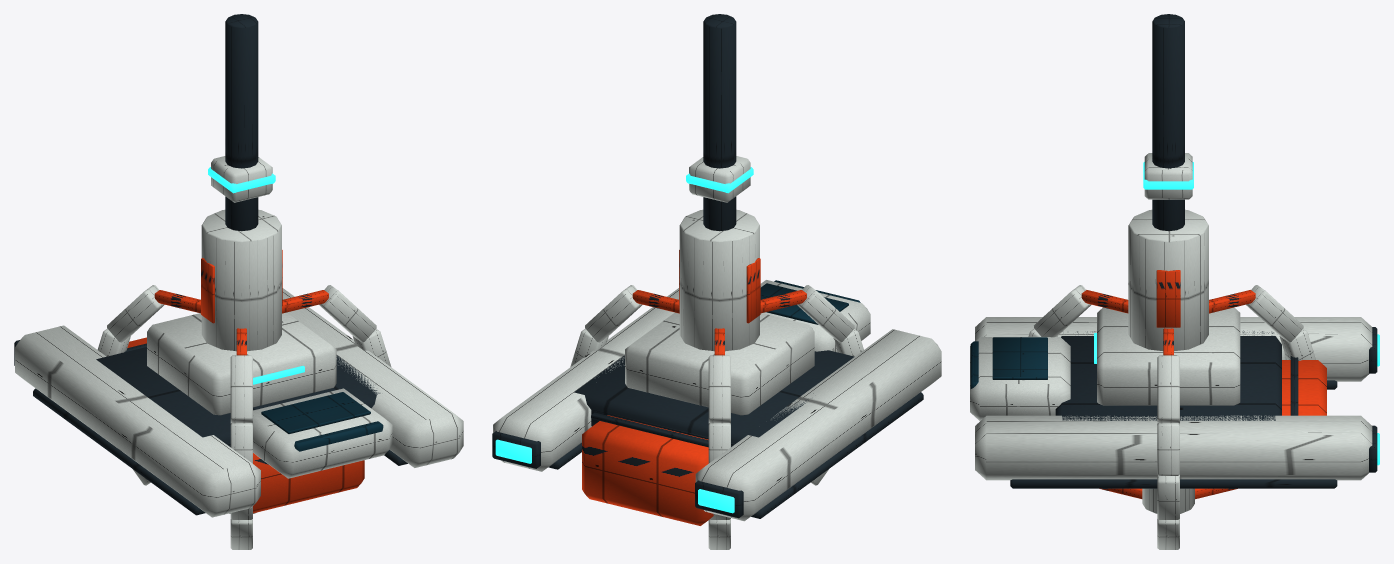
Rendered from port-life.glb.
3 views of the same model, side by side, from view 1: azimuth 30°, elevation 25°; view 2: azimuth 150°, elevation 25°; view 3: azimuth 270°, elevation 25° (orthographic).
Visible parts, largest first — view 1: cargo-shuttle / Solstice service fleet · shared atlas, turbine-tower / Solstice service fleet · shared atlas, turbine-rotor / Solstice service fleet · shared atlas, navigation-beacon / Solstice service fleet · shared atlas, navigation-beacon / Solstice cyan navigation; view 2: cargo-shuttle / Solstice service fleet · shared atlas, turbine-tower / Solstice service fleet · shared atlas, turbine-rotor / Solstice service fleet · shared atlas, navigation-beacon / Solstice service fleet · shared atlas, cargo-shuttle / Solstice cyan navigation, navigation-beacon / Solstice cyan navigation; view 3: cargo-shuttle / Solstice service fleet · shared atlas, turbine-tower / Solstice service fleet · shared atlas, turbine-rotor / Solstice service fleet · shared atlas, navigation-beacon / Solstice service fleet · shared atlas, navigation-beacon / Solstice cyan navigation.
Part boxes in pixels (left/top/right/bottom): cargo-shuttle / Solstice service fleet · shared atlas: left=14, top=288, right=463, bottom=517; turbine-tower / Solstice service fleet · shared atlas: left=96, top=14, right=380, bottom=446; turbine-rotor / Solstice service fleet · shared atlas: left=97, top=285, right=391, bottom=549; navigation-beacon / Solstice service fleet · shared atlas: left=211, top=156, right=272, bottom=202; navigation-beacon / Solstice cyan navigation: left=208, top=167, right=275, bottom=193; cargo-shuttle / Solstice service fleet · shared atlas: left=492, top=280, right=941, bottom=525; turbine-tower / Solstice service fleet · shared atlas: left=574, top=14, right=854, bottom=446; turbine-rotor / Solstice service fleet · shared atlas: left=570, top=285, right=863, bottom=549; navigation-beacon / Solstice service fleet · shared atlas: left=689, top=156, right=750, bottom=202; cargo-shuttle / Solstice cyan navigation: left=495, top=439, right=734, bottom=513; navigation-beacon / Solstice cyan navigation: left=686, top=167, right=753, bottom=193; cargo-shuttle / Solstice service fleet · shared atlas: left=970, top=317, right=1377, bottom=488; turbine-tower / Solstice service fleet · shared atlas: left=1055, top=14, right=1281, bottom=420; turbine-rotor / Solstice service fleet · shared atlas: left=1028, top=285, right=1315, bottom=549; navigation-beacon / Solstice service fleet · shared atlas: left=1144, top=153, right=1192, bottom=199; navigation-beacon / Solstice cyan navigation: left=1143, top=162, right=1193, bottom=189.
Size of the model in its own units: 12.71 by 21.25 by 16.3.
2 materials, 1 textured.
